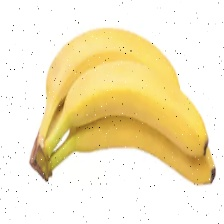banana: (20, 31, 212, 168)
